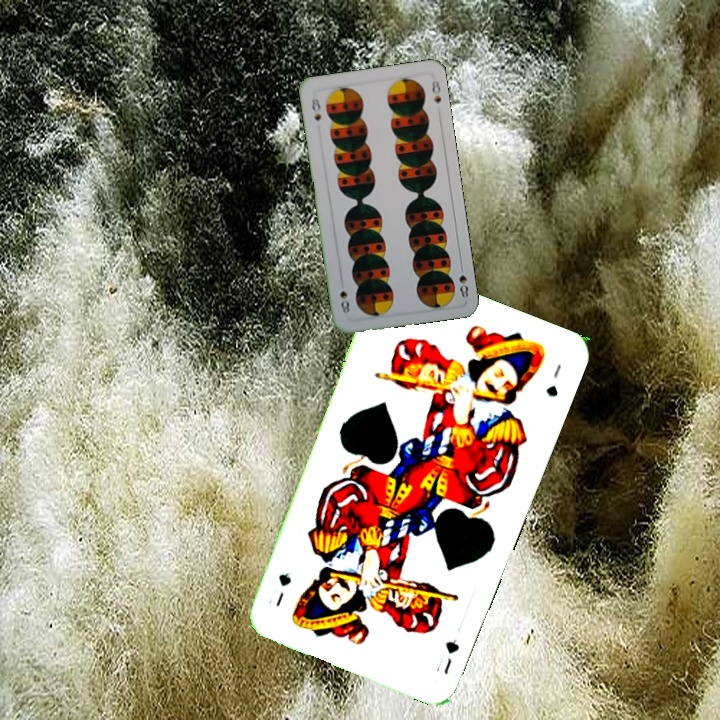GU: (431, 635, 462, 677)
S8: (455, 260, 471, 301), (308, 94, 323, 124)
